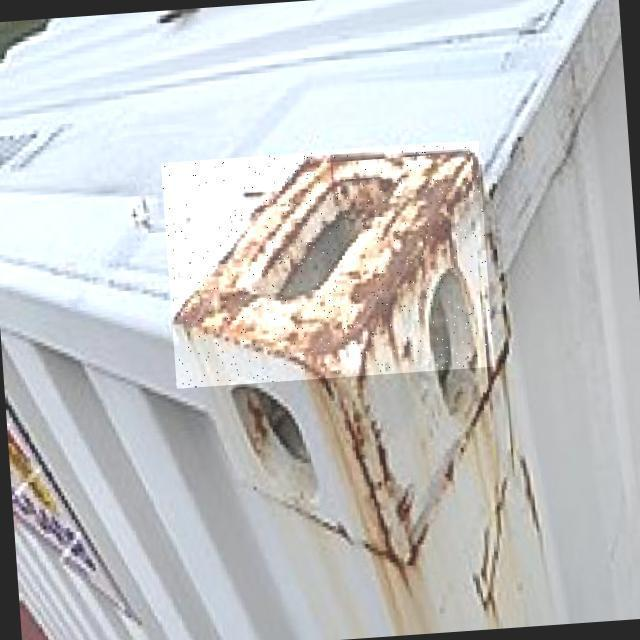rust: (162, 142, 495, 390)
